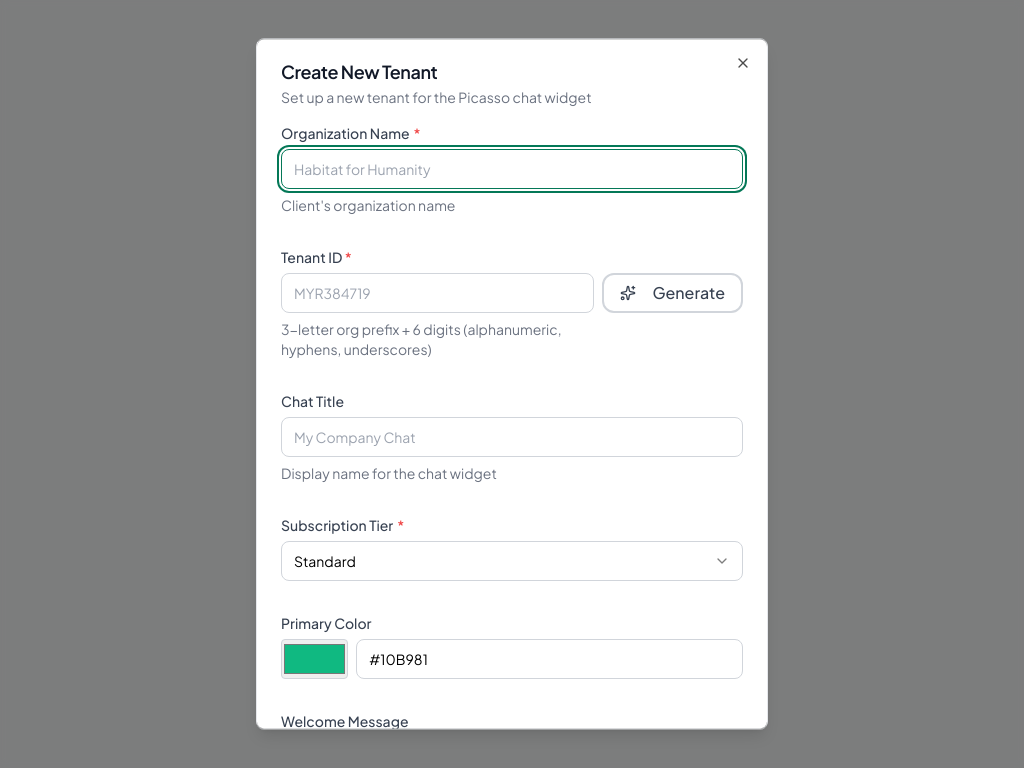
Test: CreateTenantModal › displays API error messages
In the field labelled "Organization Name*": {"x": 512, "y": 169} [281,149,743,189], type "Existing Org"
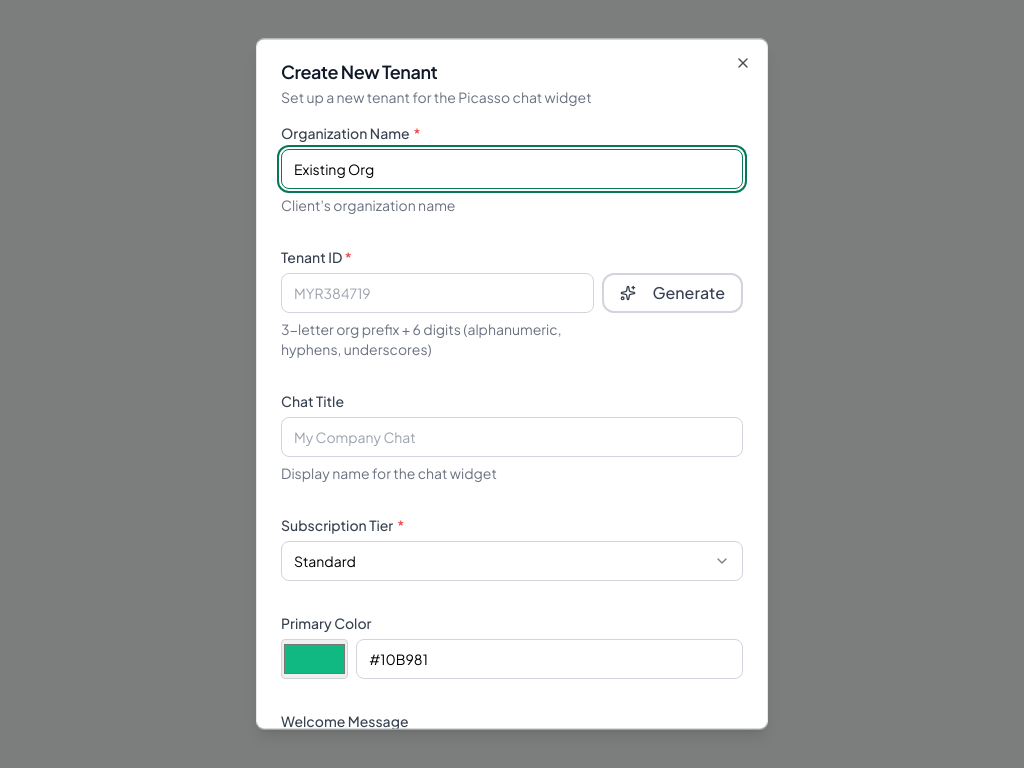
In the field labelled "Tenant ID *": {"x": 438, "y": 293} [281,273,594,313], type "existing-tenant"
(page scrolled)
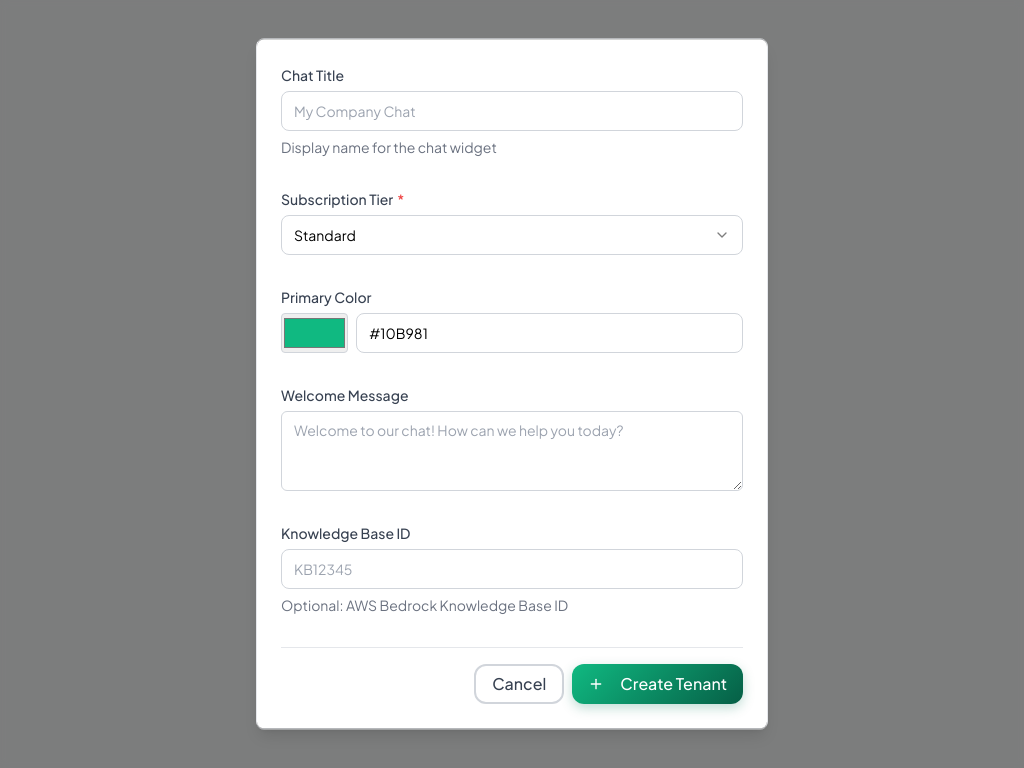
Click the button "Create Tenant": {"x": 658, "y": 684} [572,664,743,704]
(page scrolled)
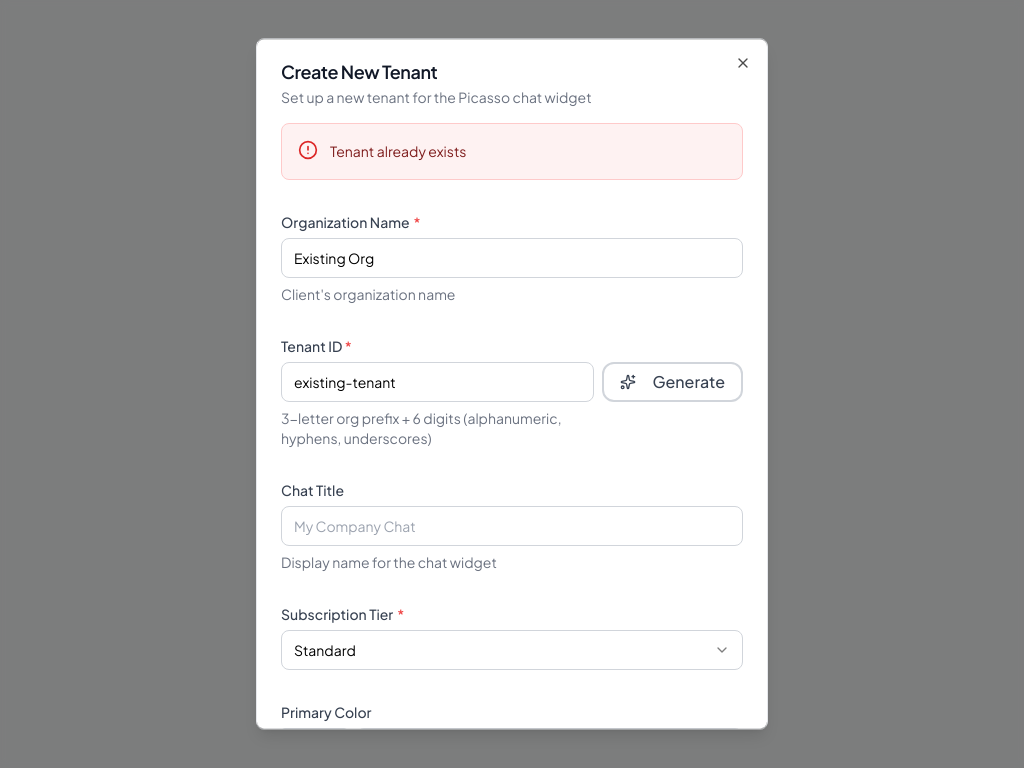
Expected: the text "Tenant already exists" is shown, [330,142,466,160]
